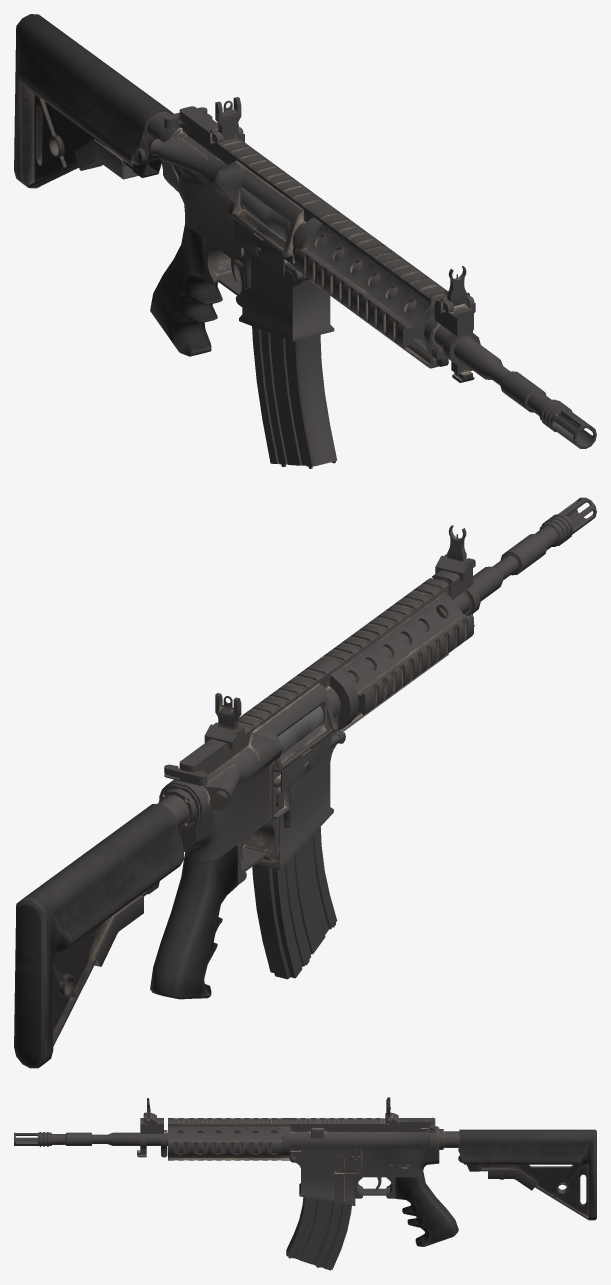
The model's file is m4a1_carbine.glb.
3 renders of one model, top to bottom at view 1: azimuth 30°, elevation 25°; view 2: azimuth 150°, elevation 25°; view 3: azimuth 270°, elevation 25°, orthographic. The views are drawn at different scales.
Parts seen in each view (by area): view 1: M44A1_Body, M4A1_Magazine_UV_M4A1_0, M4A1_Bolt; view 2: M44A1_Body, M4A1_Magazine_UV_M4A1_0, M4A1_Bolt; view 3: M44A1_Body, M4A1_Magazine_UV_M4A1_0.
Part boxes in pixels (<box>): M44A1_Body: <box>14,14,596,448</box>; M4A1_Magazine_UV_M4A1_0: <box>252,326,337,468</box>; M4A1_Bolt: <box>241,190,290,240</box>; M44A1_Body: <box>14,497,596,1068</box>; M4A1_Magazine_UV_M4A1_0: <box>252,827,337,979</box>; M4A1_Bolt: <box>277,706,323,754</box>; M44A1_Body: <box>14,1097,596,1246</box>; M4A1_Magazine_UV_M4A1_0: <box>286,1197,351,1270</box>.
Bounding box in the file's own units: 7.41 × 30.8 × 96.59.
1 material, 1 textured.
